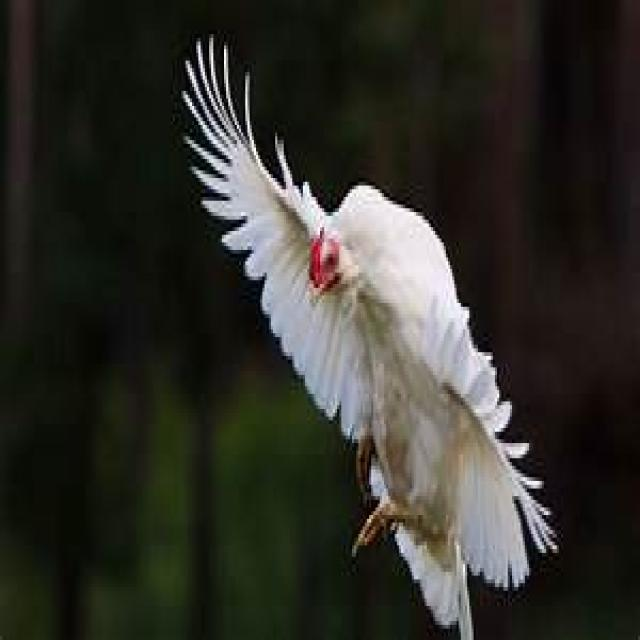hen: (173, 34, 555, 640)
